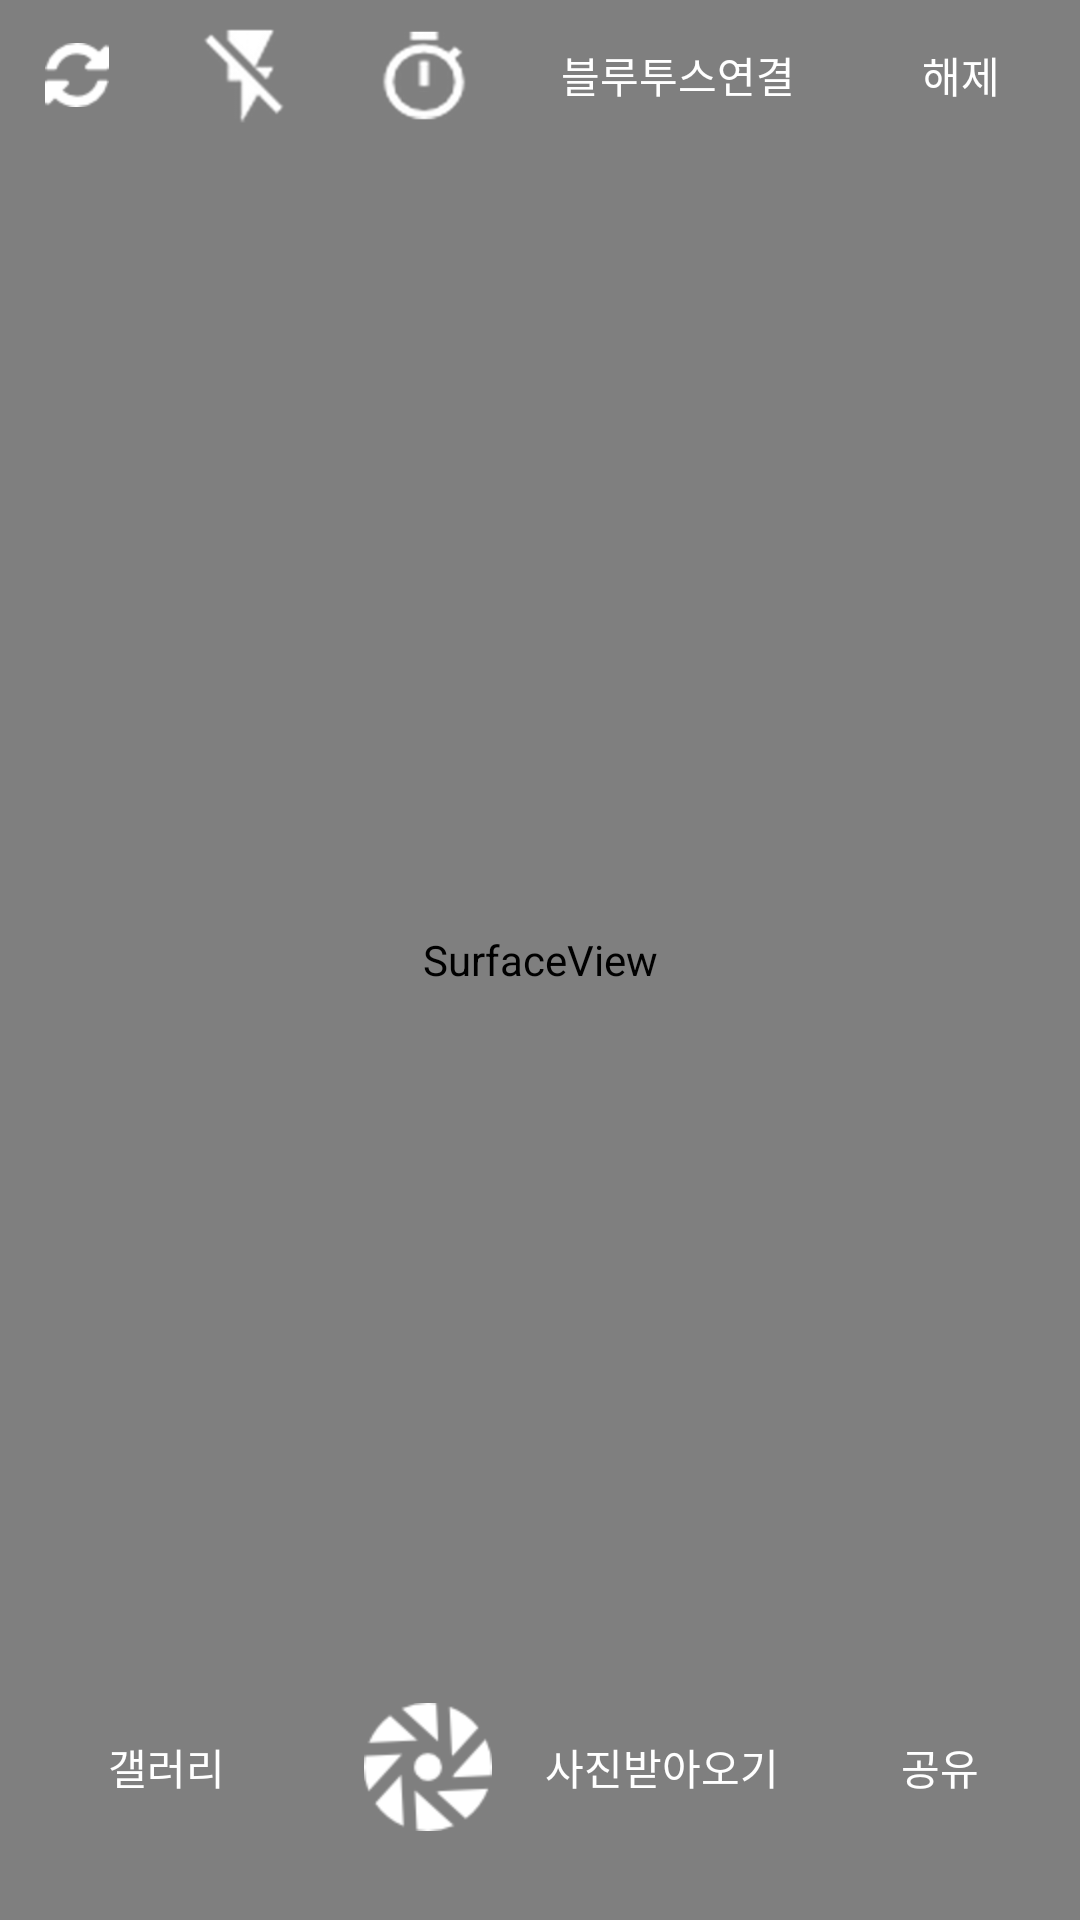

Locate icon controls on the screen. Image size 1080×1920, boxes as [left=x1, top=y1, right=x2, bottom=y2].
camcam: [left=364, top=1703, right=492, bottom=1831]
refres: [left=45, top=43, right=109, bottom=107]
